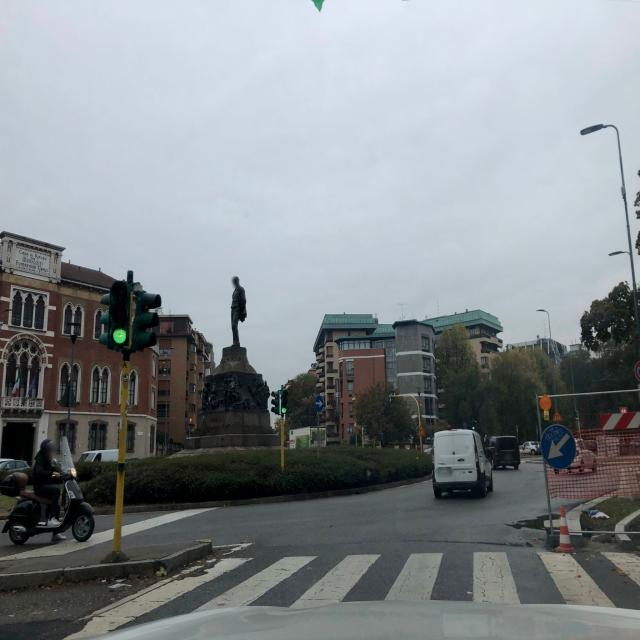bike: (7, 468, 96, 545)
car: (432, 429, 493, 499), (0, 457, 32, 495), (488, 435, 520, 470), (521, 441, 541, 455)
